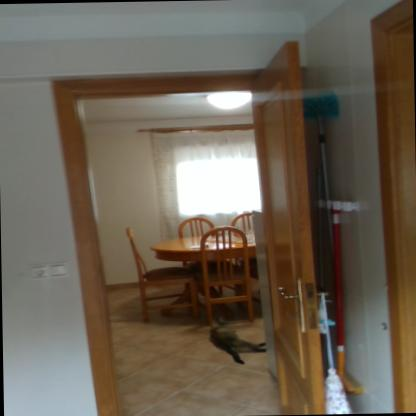open: (36, 59, 330, 408)
